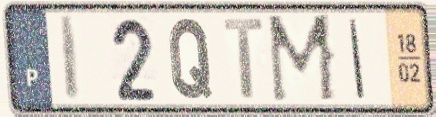2: (106, 11, 163, 106)
I: (57, 13, 82, 104), (347, 16, 368, 102)
M: (265, 11, 339, 107)
Q: (166, 16, 215, 102)
T: (221, 16, 266, 102)
